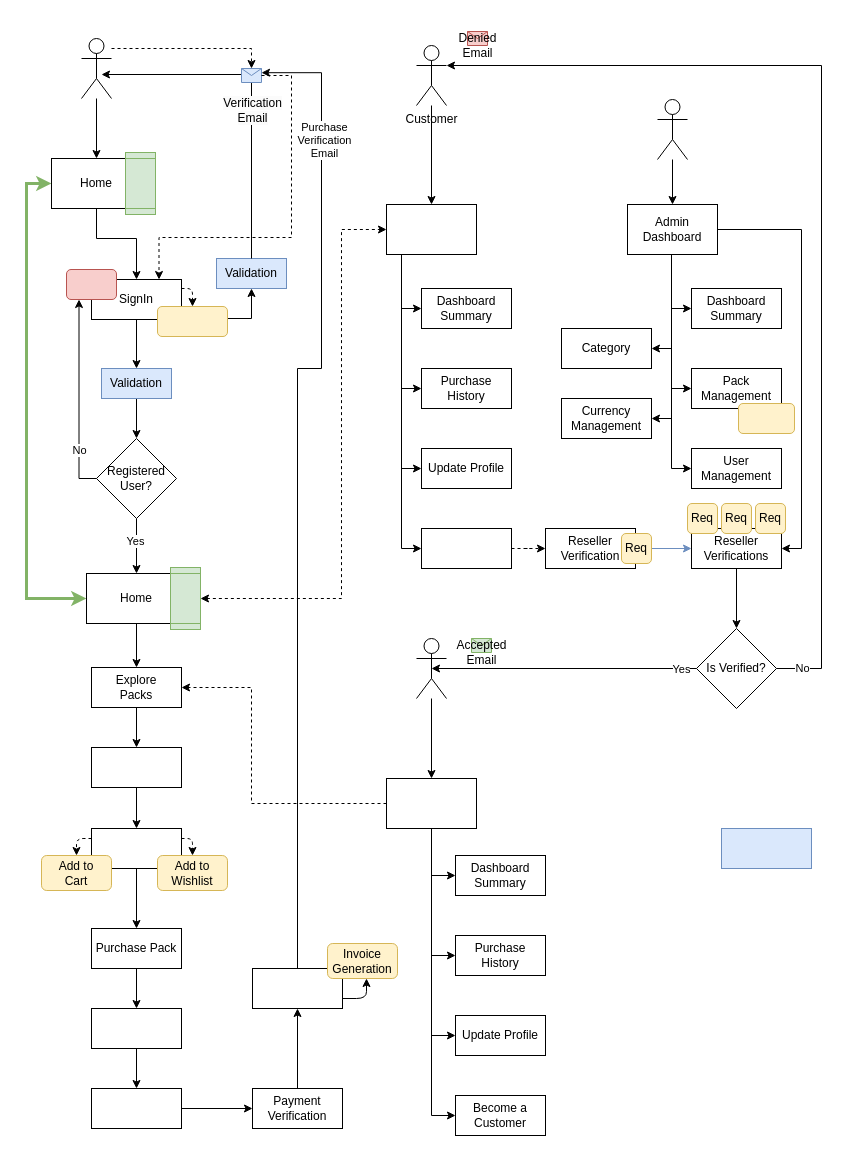
Some shapes in this 847 by 1153 pixel diagram are drawn without their labels. The shapes that lost their labels are listed below. From the top down, each one's centre as x and y in pixels, then its label:
At (96,68): "User".
At (672,129): "Admin".
At (140,183): "❌ Session".
At (431,229): "Customer Dashboard".
At (91,284): "Error Msg".
At (192,321): "Register".
At (766,418): "Reseller Price".
At (466,548): "Become a Reseller".
At (185,598): "✅ Session".
At (431,668): "Reseller".
At (136,767): "Select Pack".
At (431,803): "Reseller Dashboard".
At (136,848): "Single Pack View".
At (766,848): "Vertual Coin for check-out".
At (297,988): "Purchase Confirmation".
At (136,1028): "Check Out".
At (136,1108): "Proceed to Payment".
